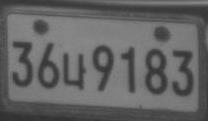1: (118, 45, 140, 93)
3: (171, 49, 195, 97), (11, 39, 33, 88)
6: (37, 42, 59, 88)
8: (143, 47, 169, 95)
9: (91, 44, 115, 91)
나: (62, 51, 87, 91)
